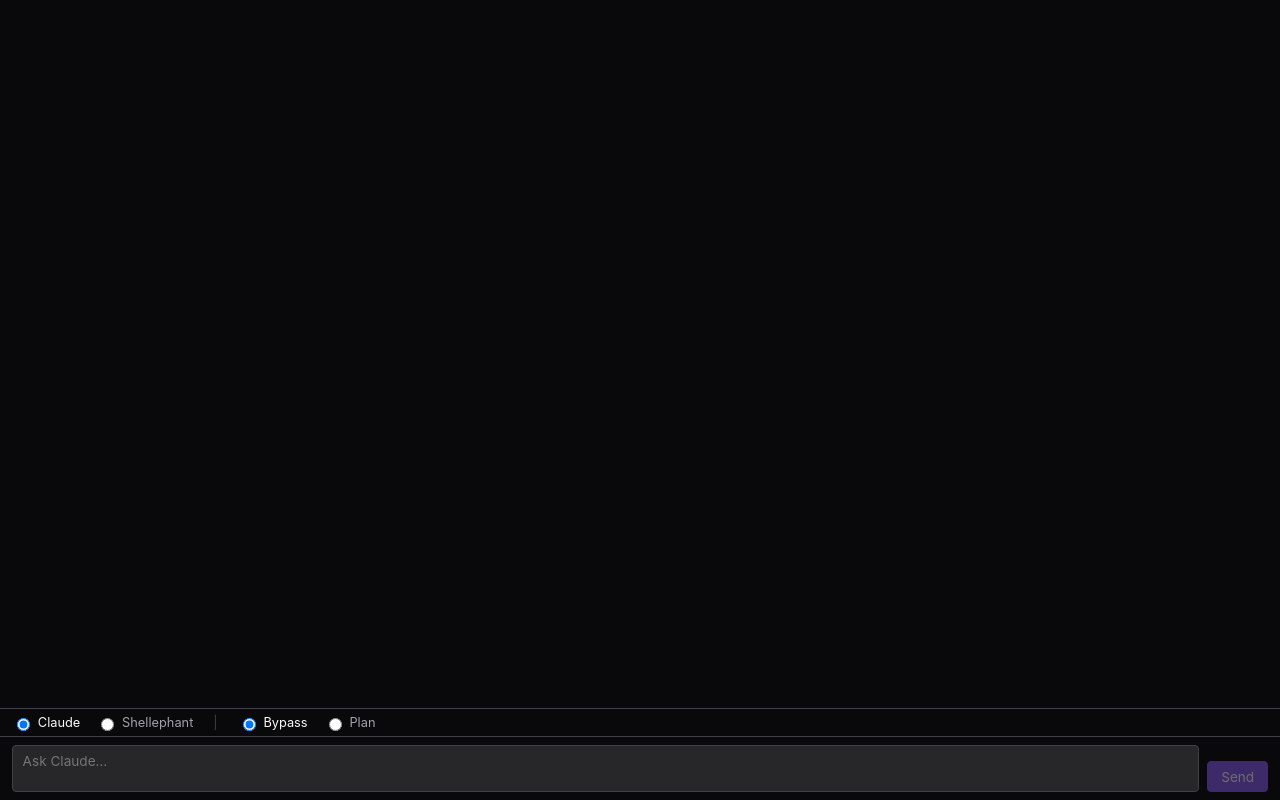
AssistedPanel › shows token stats after shellephant turn complete
Note: Switch to shellephant first so stats are shown
Click the radio button labelled "Shellephant": [108, 724] box [101,718,114,731]
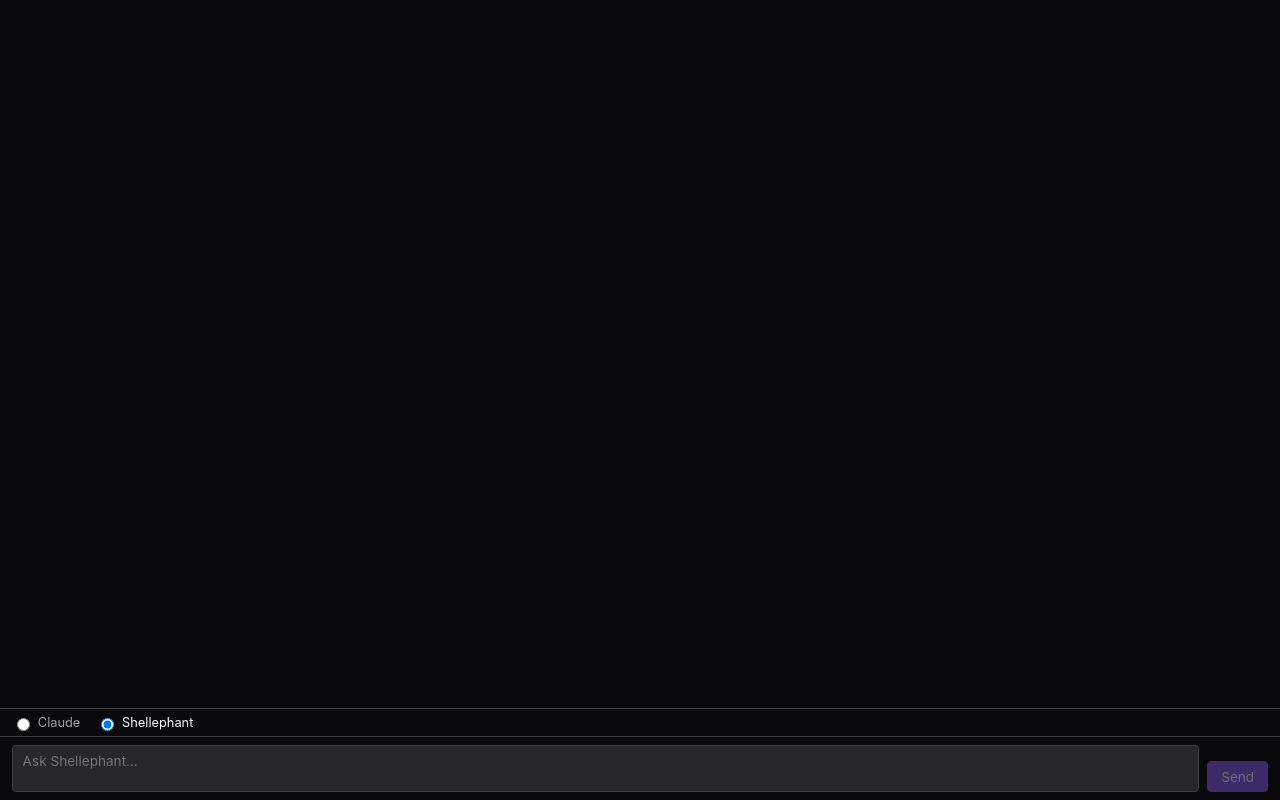
In the text box: [606, 769] box [12,745,1199,792], type "go"
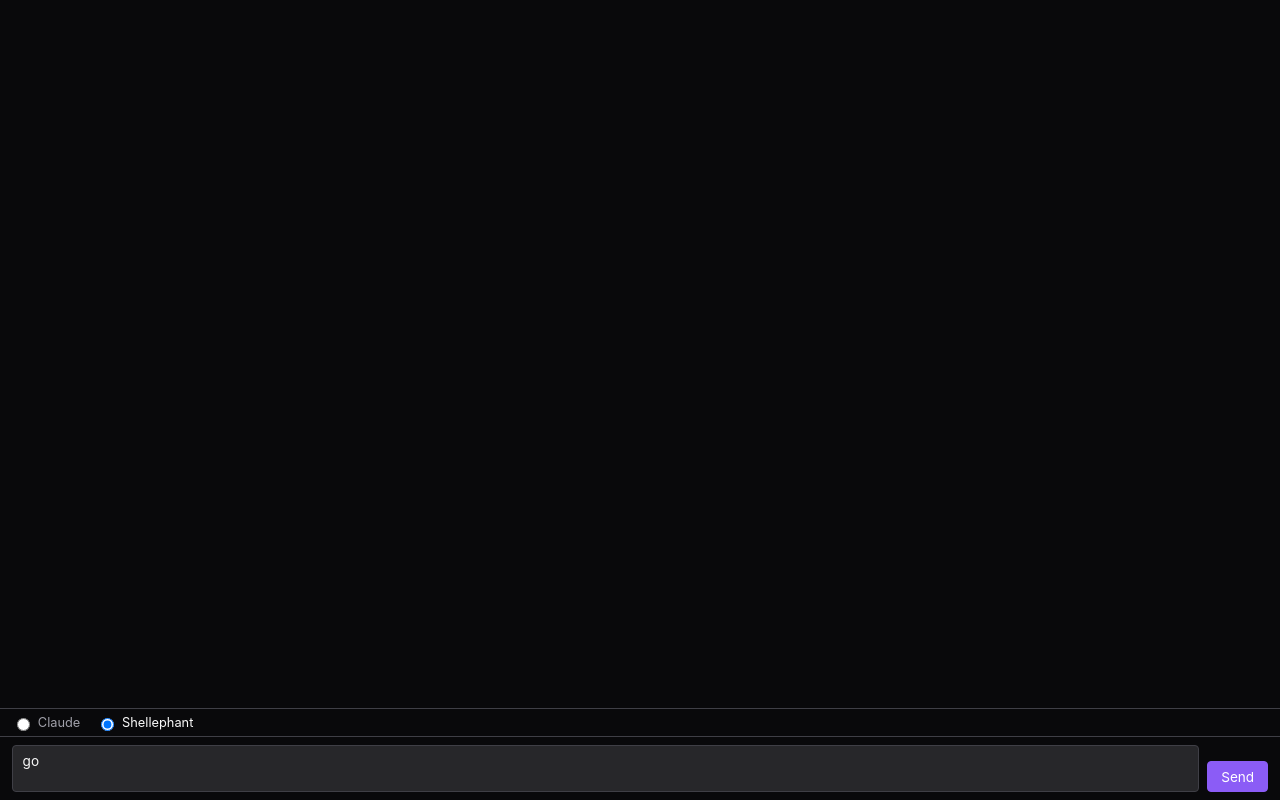
Click the button "Send": [1238, 777] box [1207,761,1268,792]
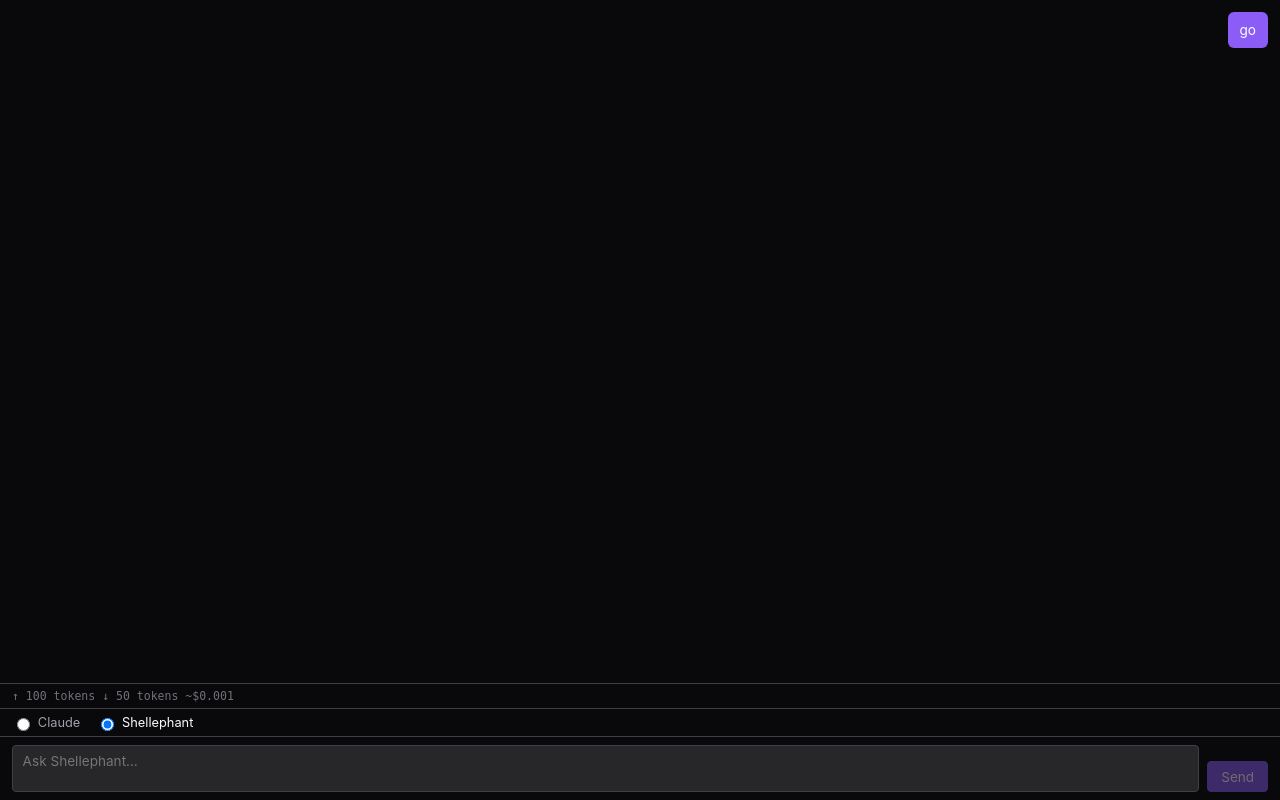
Result: the text "↑ 100 tokens ↓ 50 tokens ~$0.001" is shown at [0,683,1279,708]
